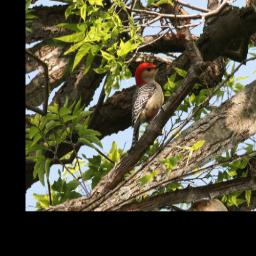Woodpecker: (96, 48, 194, 152)
